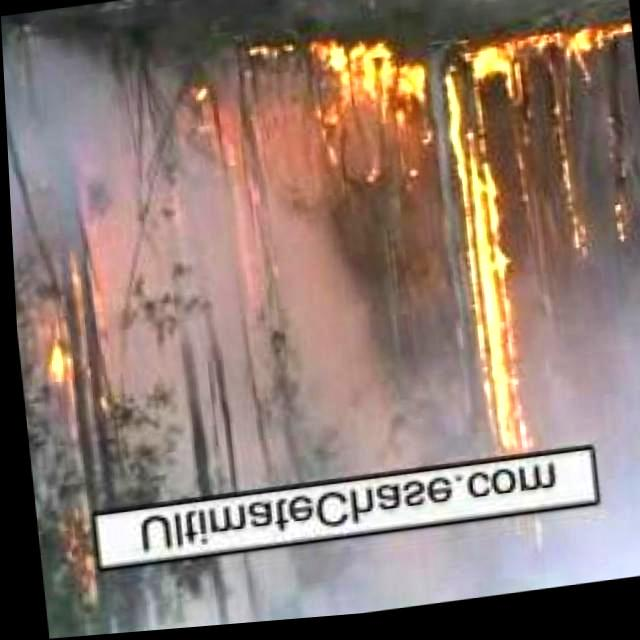fire: (315, 20, 637, 138), (472, 126, 528, 456), (54, 504, 104, 600), (551, 152, 587, 262), (177, 80, 223, 148), (34, 341, 74, 405), (604, 212, 632, 256)
